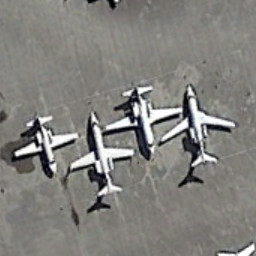Airplane: (160, 74, 243, 168), (68, 107, 138, 207), (102, 82, 184, 159), (4, 112, 82, 181)
